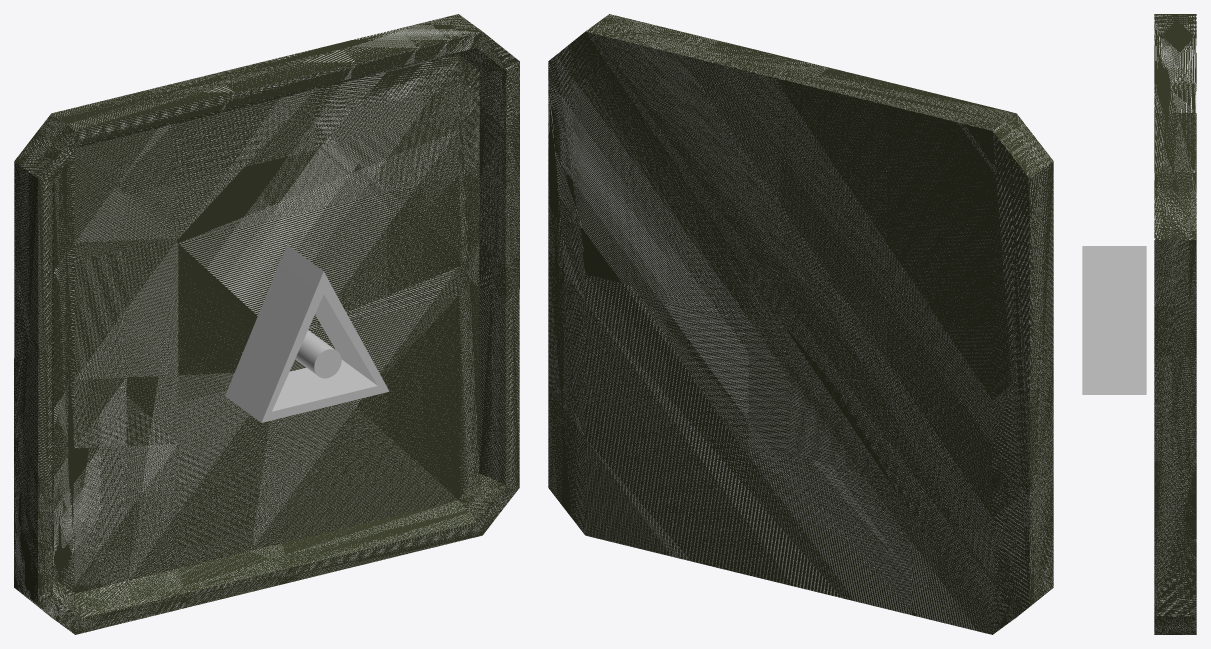
File: CM_-_Anchor_OP.obj
3 views of the same model, side by side, from view 1: azimuth 30°, elevation 25°; view 2: azimuth 150°, elevation 25°; view 3: azimuth 270°, elevation 25° (orthographic). The views are drawn at different scales.
Parts seen in each view (by area): view 1: Button.001_ID13, Button_ID3, SM_CM_-_Anchor_OP_path1763-2.066; view 2: Button_ID3; view 3: Button_ID3, SM_CM_-_Anchor_OP_path1763-2.066.
Boxes of the visible parts, x1,y1,x2,y2 form: Button.001_ID13: [52, 47, 505, 618]; Button_ID3: [14, 14, 519, 634]; SM_CM_-_Anchor_OP_path1763-2.066: [225, 245, 389, 422]; Button_ID3: [548, 14, 1053, 634]; Button_ID3: [1154, 14, 1196, 634]; SM_CM_-_Anchor_OP_path1763-2.066: [1082, 246, 1146, 394].
Bounding box in the file's own units: 1 × 1 × 0.2331.
